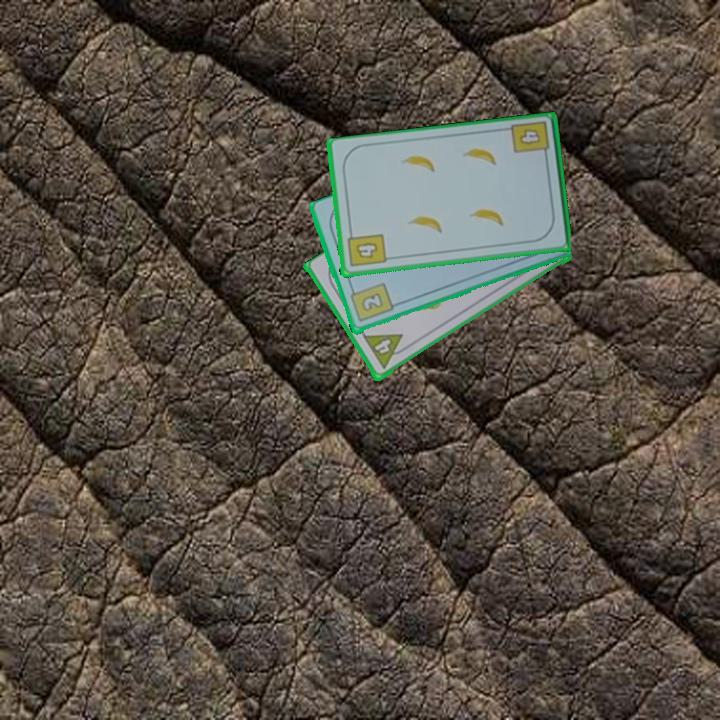2b: (346, 280, 396, 325)
4b: (508, 118, 552, 162), (343, 227, 388, 270)
4p: (362, 330, 403, 360)
